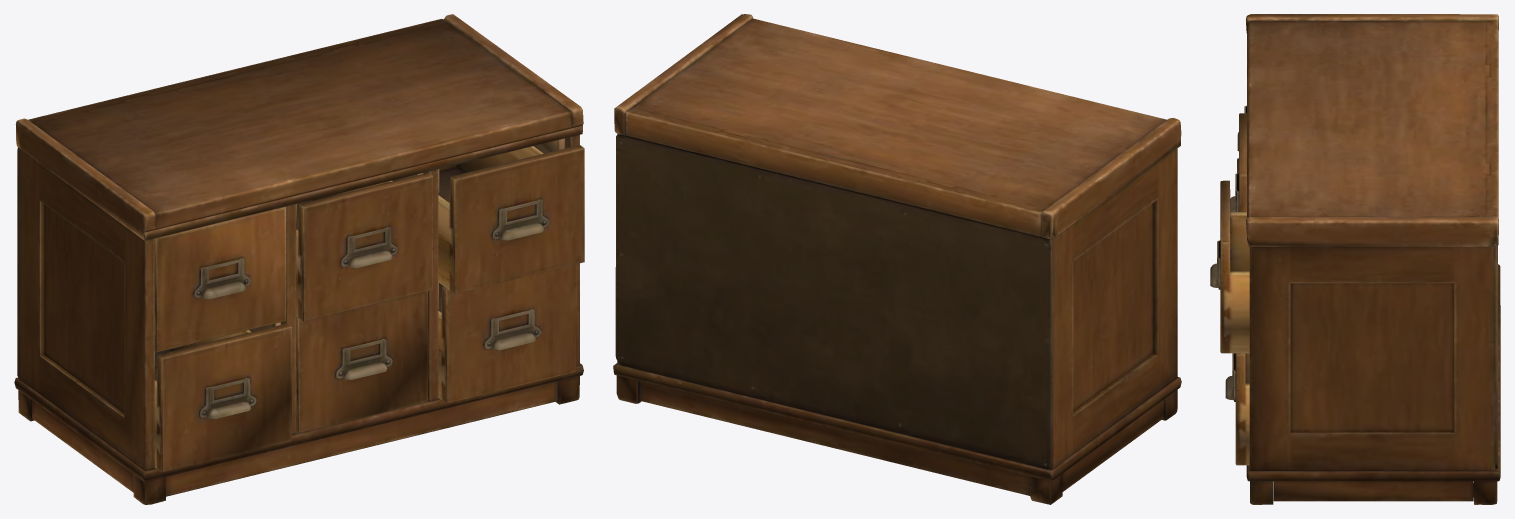
The model's file is vintage_wooden_drawer_01.glb.
The picture shows the model from 3 angles, left to right: view 1: azimuth 30°, elevation 25°; view 2: azimuth 150°, elevation 25°; view 3: azimuth 270°, elevation 25°; orthographic projection. The views are drawn at different scales.
Parts seen in each view (by area): view 1: vintage_wooden_drawer_01_body; view 2: vintage_wooden_drawer_01_body; view 3: vintage_wooden_drawer_01_body.
Boxes of the visible parts, x1=… form: vintage_wooden_drawer_01_body: x1=14, y1=14, x2=584, y2=504; vintage_wooden_drawer_01_body: x1=613, y1=14, x2=1181, y2=504; vintage_wooden_drawer_01_body: x1=1210, y1=14, x2=1500, y2=504.
Size of the model in its own units: 1.72 by 1.09 by 1.01.
1 material, 1 textured.
